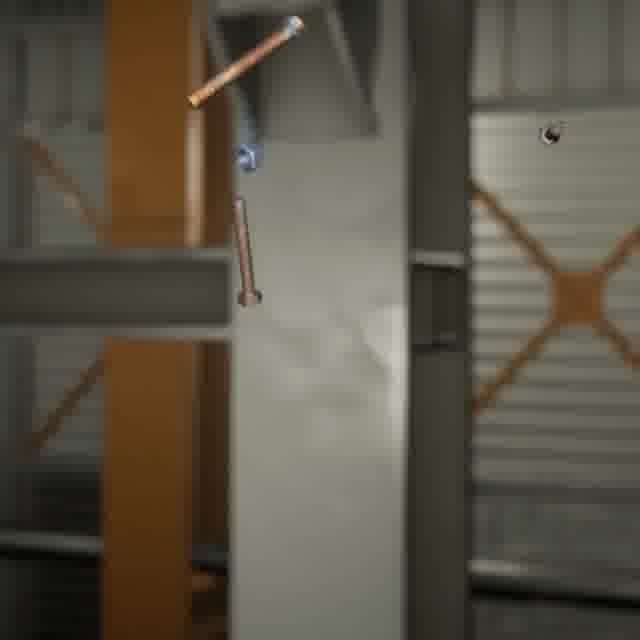bolt: (181, 11, 310, 113), (227, 192, 266, 311), (534, 117, 571, 149)
nut: (230, 136, 267, 177)
